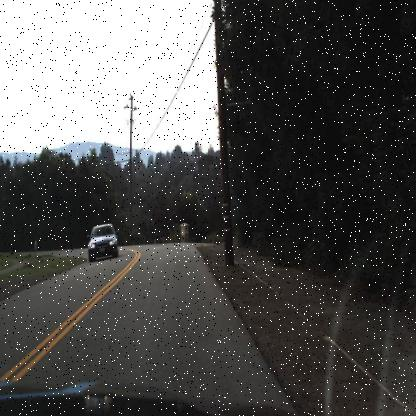car: (86, 220, 119, 262)
